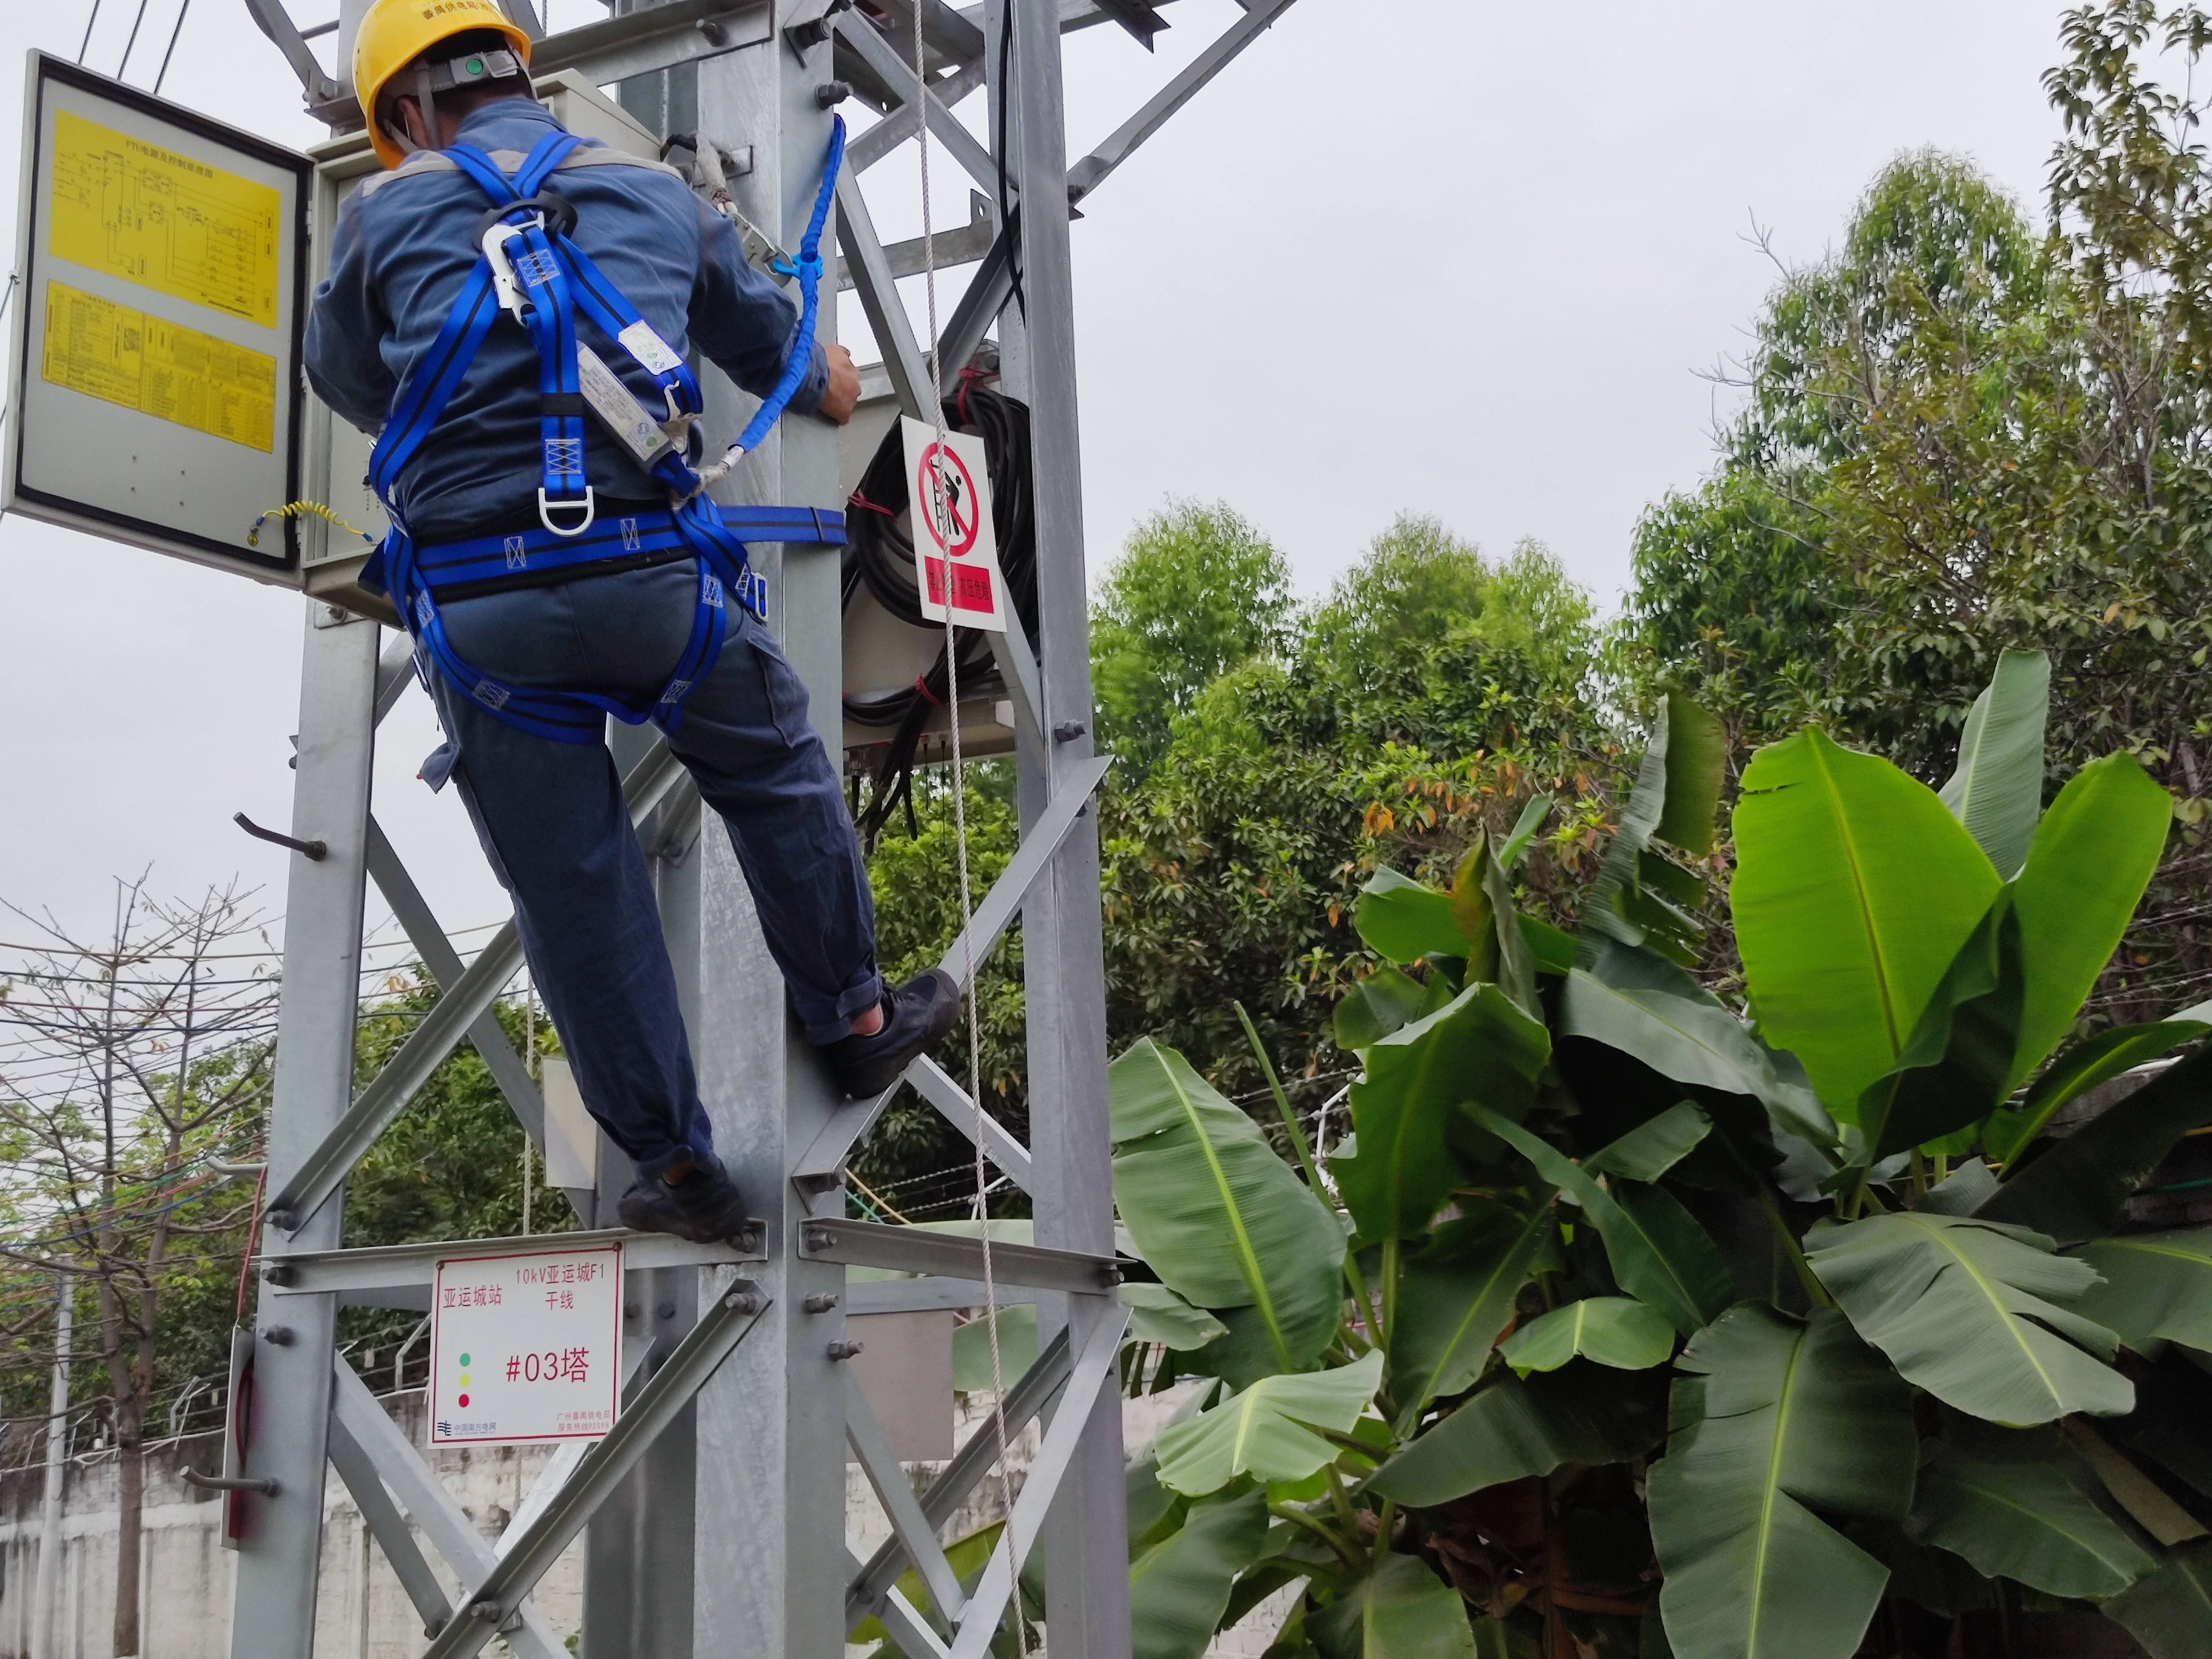downsuit: (423, 558, 902, 1178)
upsuit: (310, 113, 801, 537)
